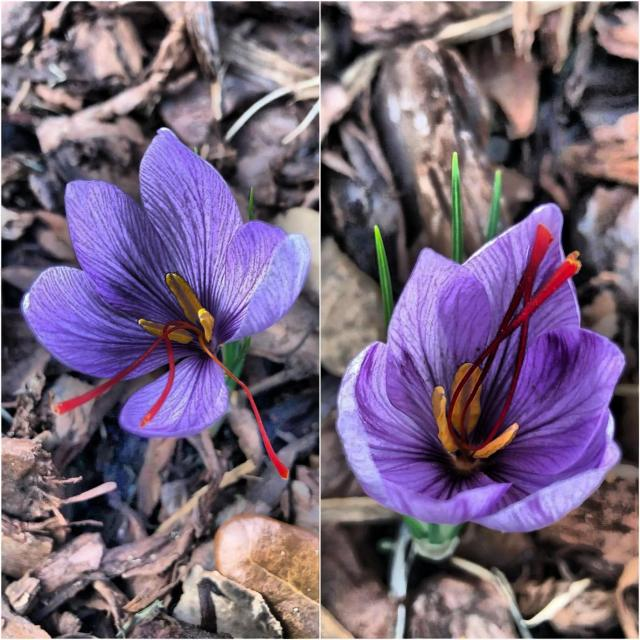Flower: (15, 121, 313, 485), (331, 194, 634, 537)
stigma: (446, 247, 586, 414), (484, 220, 561, 440), (202, 338, 294, 480), (48, 329, 174, 419), (135, 330, 180, 432)
